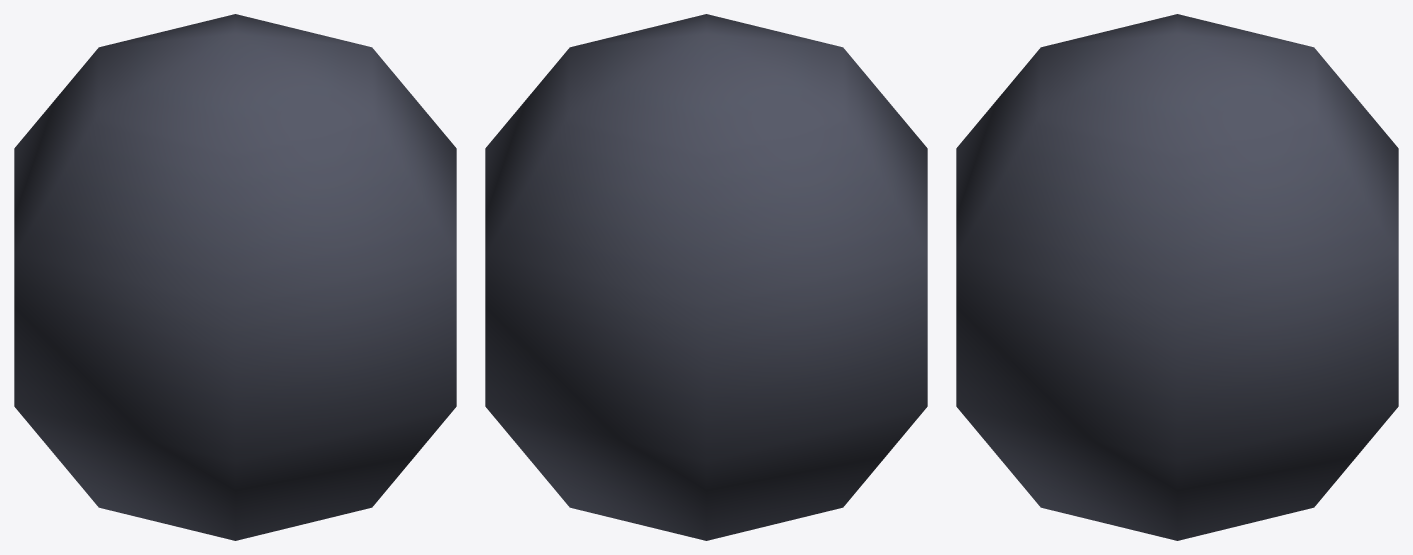
The model's file is cannon-ball.glb.
3 views of the same model, side by side, from view 1: azimuth 30°, elevation 25°; view 2: azimuth 150°, elevation 25°; view 3: azimuth 270°, elevation 25° (orthographic).
Visible parts, largest first — view 1: cannon-ball; view 2: cannon-ball; view 3: cannon-ball.
Boxes of the visible parts, x1,y1,x2,y2 form: cannon-ball: [14, 14, 456, 540]; cannon-ball: [485, 14, 927, 540]; cannon-ball: [956, 14, 1398, 540].
Size of the model in its own units: 0.6372 by 0.67 by 0.5518.
Materials: 1 (1 with a texture image).
